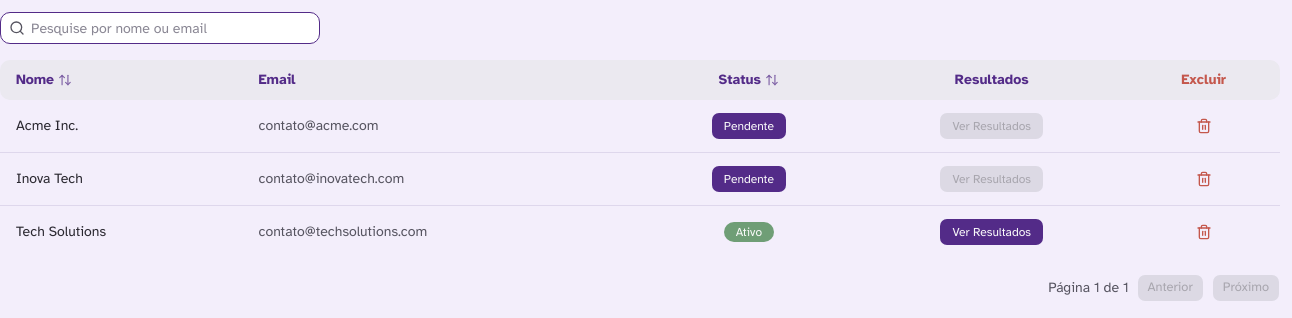
Scenario: CompanyTable › mostra o aviso de vazio quando nenhuma empresa bate com a pesquisa
Type "nada disso" into the search field named "Pesquisar empresas por nome ou email" at (172, 28), box [25,13,319,43]
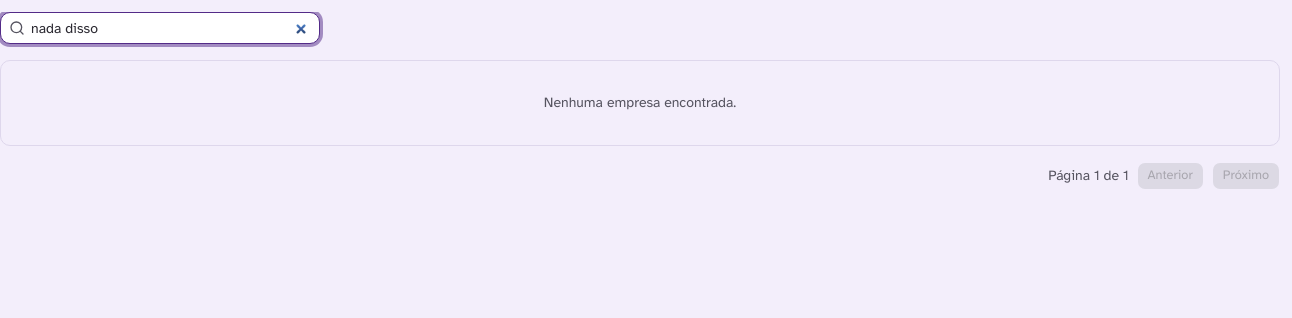
Expected: the message reads "Nenhuma empresa encontrada.", [544,94,736,111]
Expected: the table is gone
